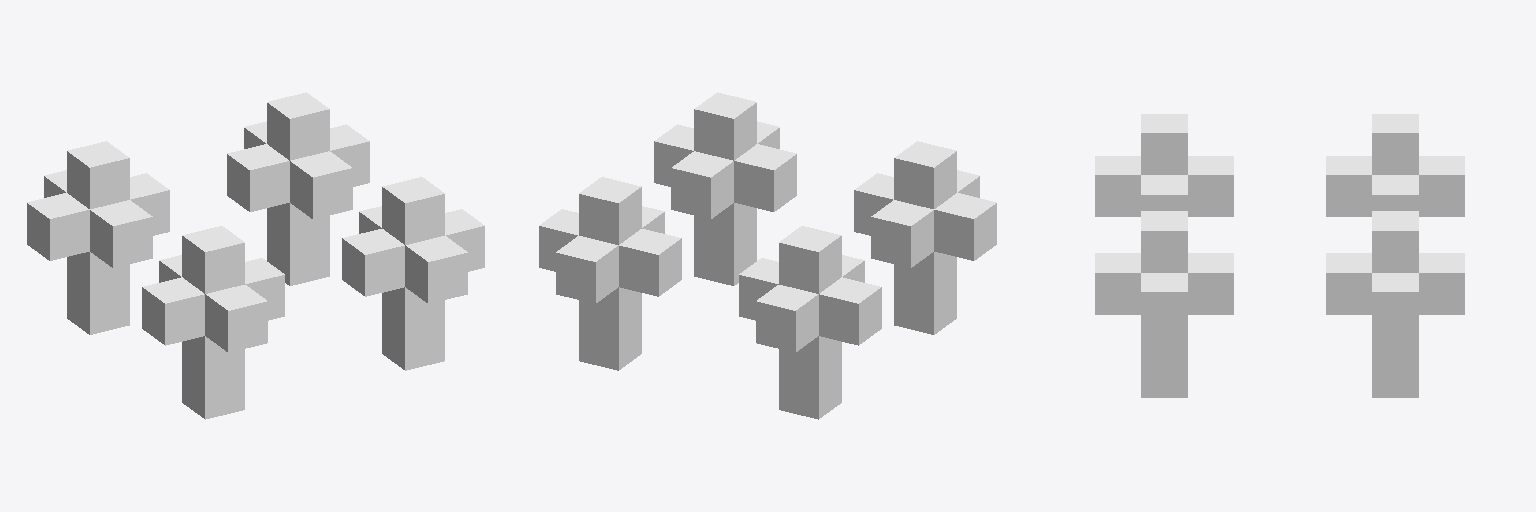
The model's file is spike-gate-base-1.obj.
3 renders of one model, left to right at view 1: azimuth 30°, elevation 25°; view 2: azimuth 150°, elevation 25°; view 3: azimuth 270°, elevation 25°, orthographic.
Visible parts, largest first — view 1: object 1; view 2: object 1; view 3: object 1.
Boxes of the visible parts, box(x1,y1,x2,y2) form: object 1: box(27, 92, 484, 419); object 1: box(539, 92, 996, 419); object 1: box(1095, 114, 1464, 397).
Bounding box in the file's own units: 0.8 × 0.4 × 0.8.